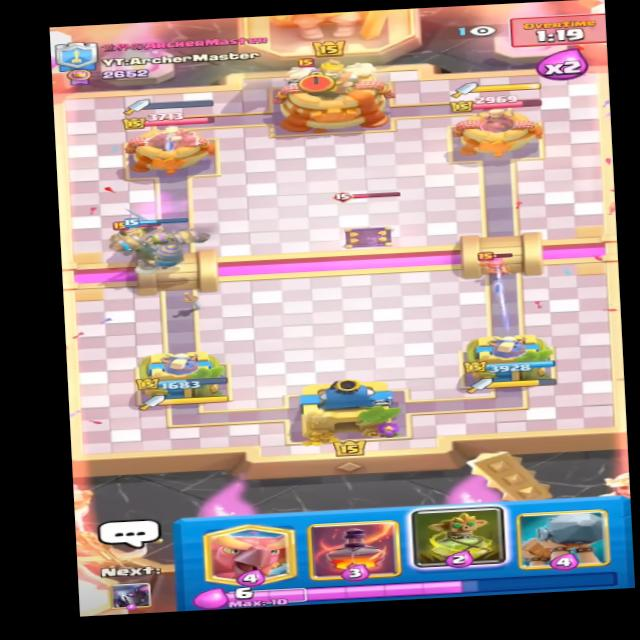archer: (476, 250, 512, 276)
evo-tesla-closed: (323, 190, 410, 253)
knight: (102, 214, 163, 253)
